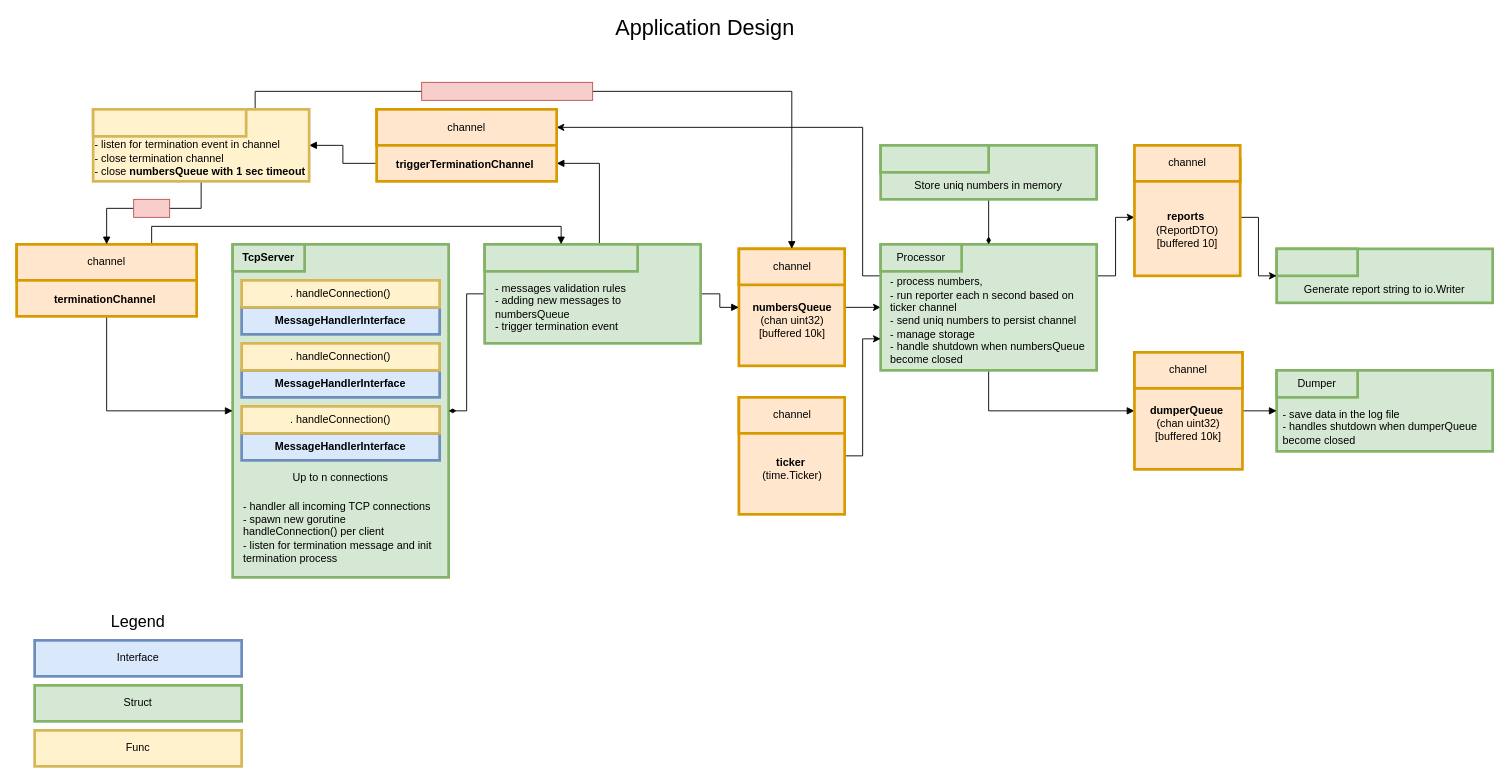
This 1509x783 diagram has some shape labels left out. Each missing label, with the centre of its shape:
"Close" belongs at point 151,207.
"Close with 1 sec timeout" belongs at point 507,90.
"IncomingMessageHandler" belongs at point 561,257.
"NumberStorage" belongs at point 934,158.
"Reporter" belongs at point 1317,262.
"Terminator" belongs at point 169,122.
